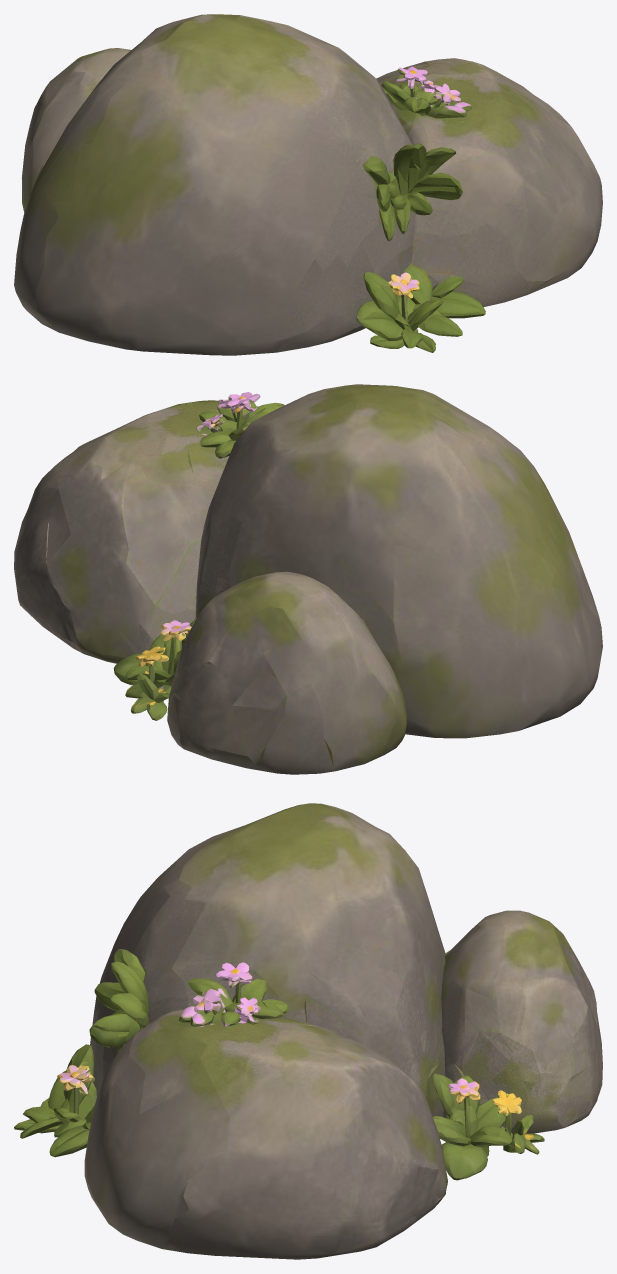
The model's file is graniteBoulder.glb.
The picture shows the model from 3 angles, top to bottom: view 1: azimuth 30°, elevation 25°; view 2: azimuth 150°, elevation 25°; view 3: azimuth 270°, elevation 25°; orthographic projection. The views are drawn at different scales.
Parts seen in each view (by area): view 1: Mesh_0; view 2: Mesh_0; view 3: Mesh_0.
Boxes of the visible parts, bbox=[...] form: Mesh_0: bbox=[14, 14, 602, 355]; Mesh_0: bbox=[14, 384, 602, 774]; Mesh_0: bbox=[14, 803, 602, 1259].
Size of the model in its own units: 1.2 by 0.5415 by 1.08.
Materials: 1 (1 with a texture image).
